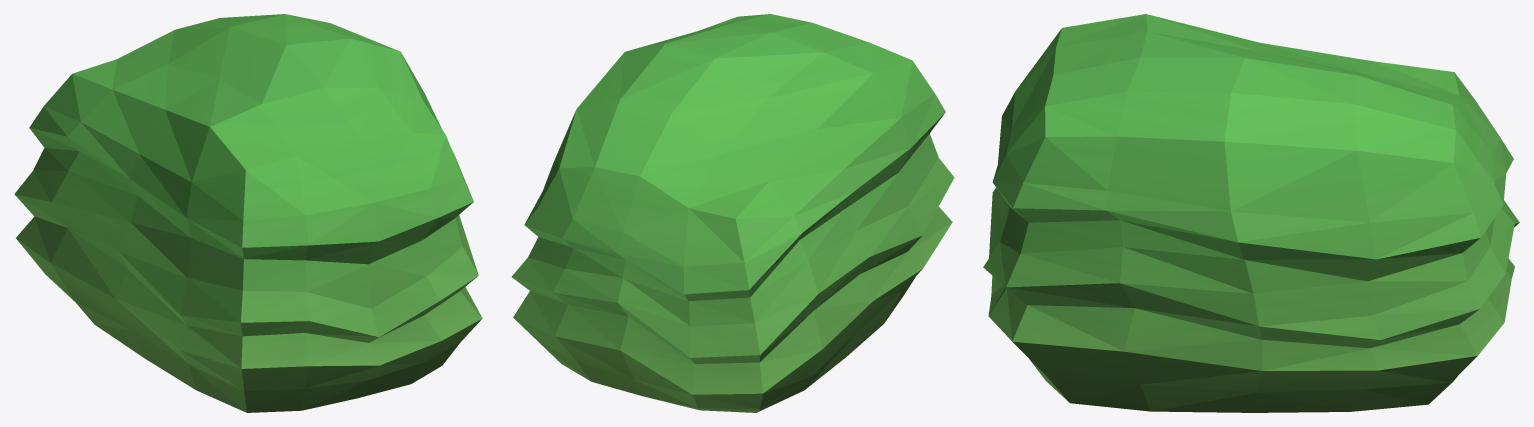
Rendered from bush_round.glb.
3 views of the same model, side by side, from view 1: azimuth 30°, elevation 25°; view 2: azimuth 150°, elevation 25°; view 3: azimuth 270°, elevation 25° (orthographic). The views are drawn at different scales.
Visible parts, largest first — view 1: bush_round; view 2: bush_round; view 3: bush_round.
Part boxes in pixels (<box>): bush_round: <box>14,14,482,412</box>; bush_round: <box>512,14,954,412</box>; bush_round: <box>983,14,1519,412</box>.
Size of the model in its own units: 1.07 by 0.9 by 1.44.
1 material, 1 textured.
